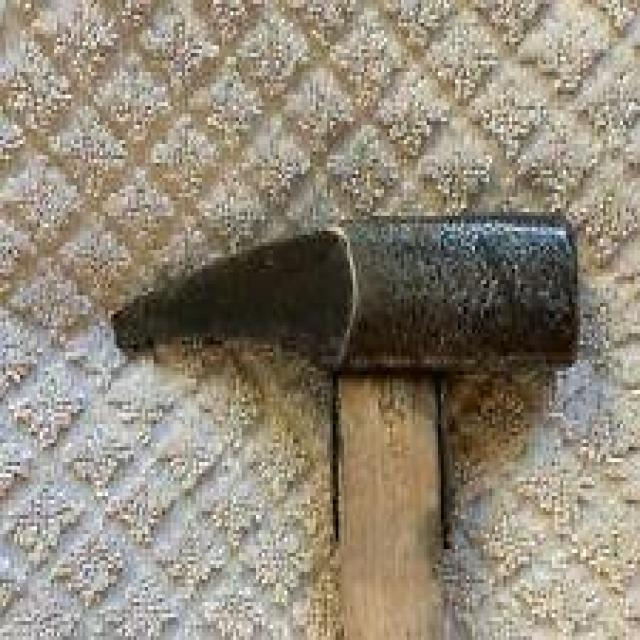hammer: (102, 200, 639, 640)
